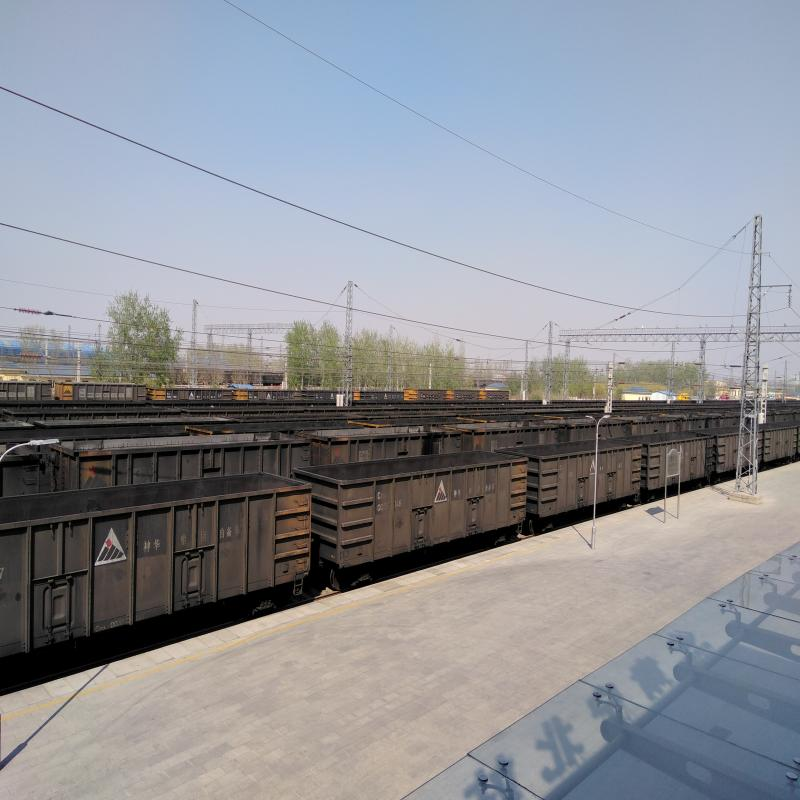train: (11, 506, 297, 604)
